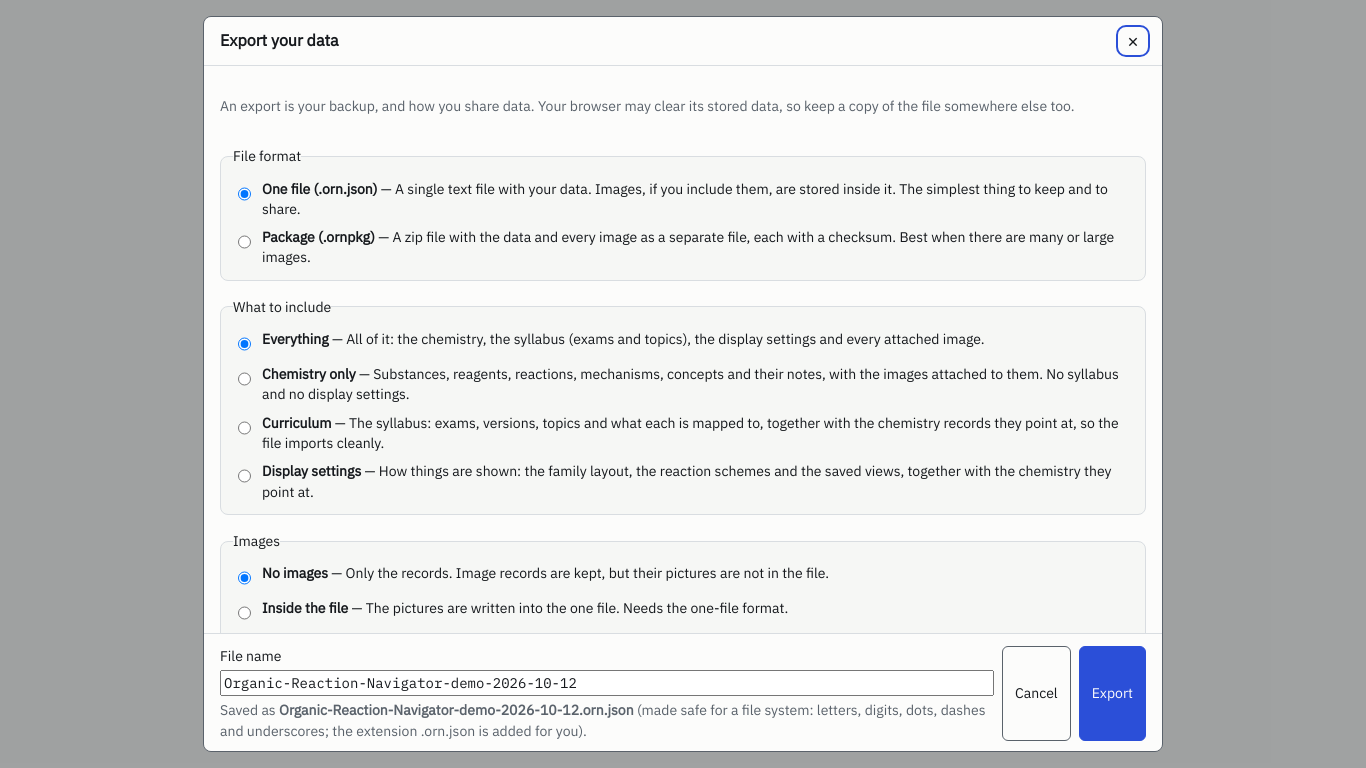
Test: running, cancel and the result › a clean result says nothing is missing
The width and height of the screenshot is (1366, 768).
Click the button "Export" at (1112, 693), box [1079,646,1146,741]
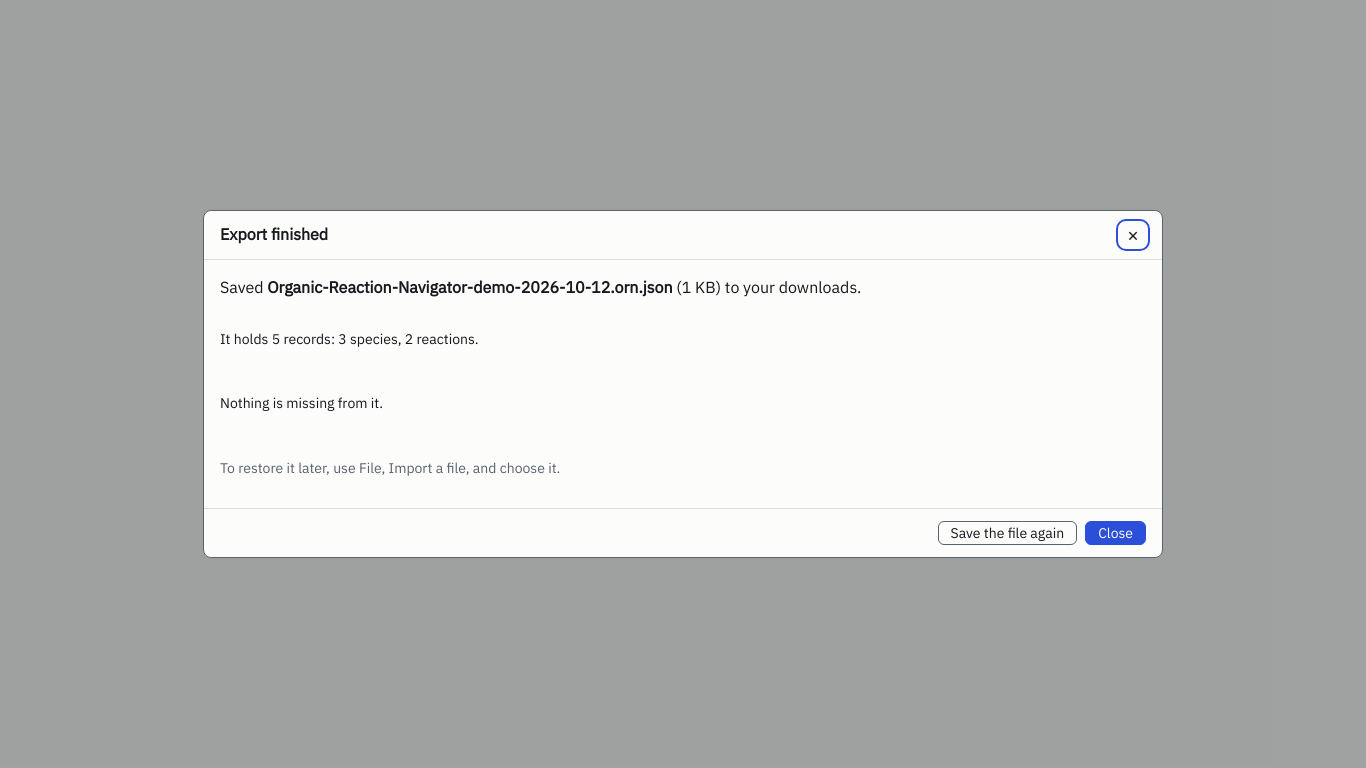
Expected: the dialog "Export finished" shows "Nothing is missing from it.", [220,394,383,412]
